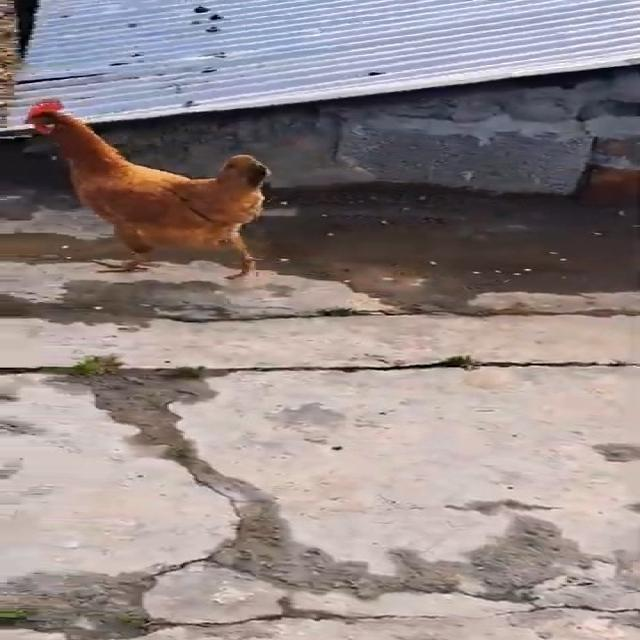walking: (0, 92, 295, 296)
